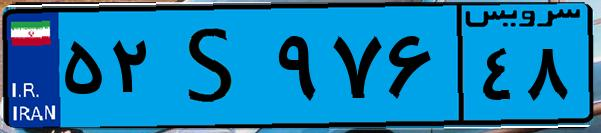2: (110, 28, 158, 98)
4: (475, 38, 525, 113)
5: (57, 26, 110, 100)
6: (385, 28, 445, 110)
7: (330, 28, 385, 110)
8: (525, 38, 570, 115)
9: (270, 28, 330, 110)
S: (158, 12, 270, 120)
